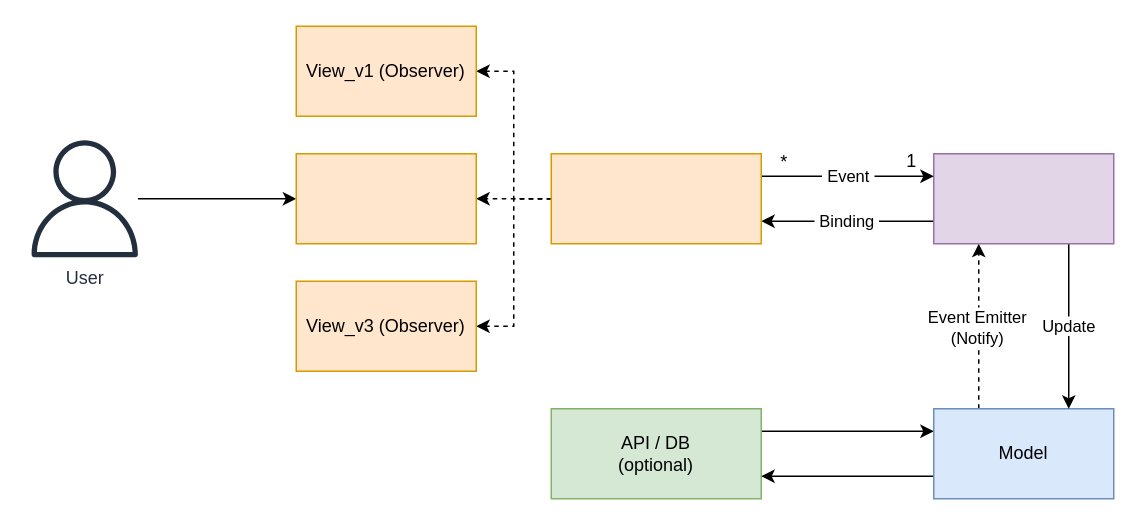
Image size: 1140x525. Some labels were removed from this diagram. Here are the shapes that lost their labels. From the top down, the box of each, then its label:
(295, 152, 476, 244): View_v2 (Observer)
(550, 152, 761, 244): Event (Contract / Observable)
(932, 152, 1114, 244): ViewModel
